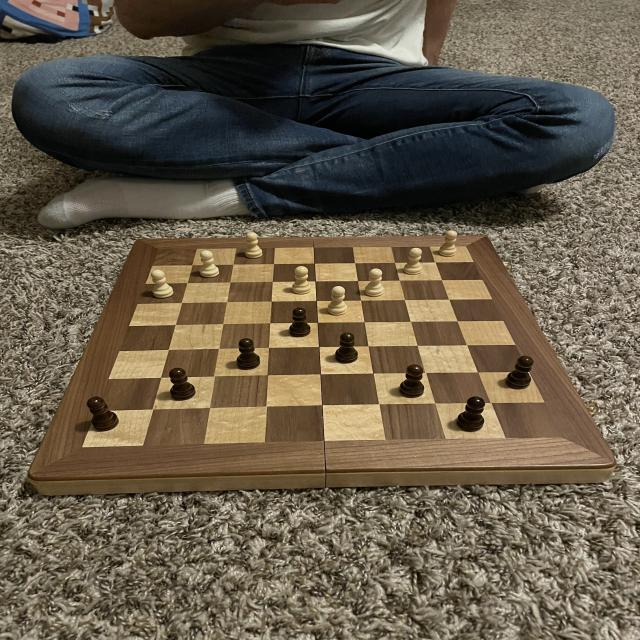black-knight: (84, 390, 124, 439), (455, 393, 490, 436), (501, 354, 539, 393), (164, 367, 198, 404), (396, 363, 429, 400), (332, 331, 361, 366), (233, 337, 262, 371), (288, 306, 312, 340)
white-knight: (147, 267, 175, 301), (326, 283, 351, 319), (399, 246, 429, 276), (288, 266, 315, 299), (361, 267, 386, 301), (198, 248, 222, 281), (437, 228, 462, 258), (240, 231, 264, 261)
